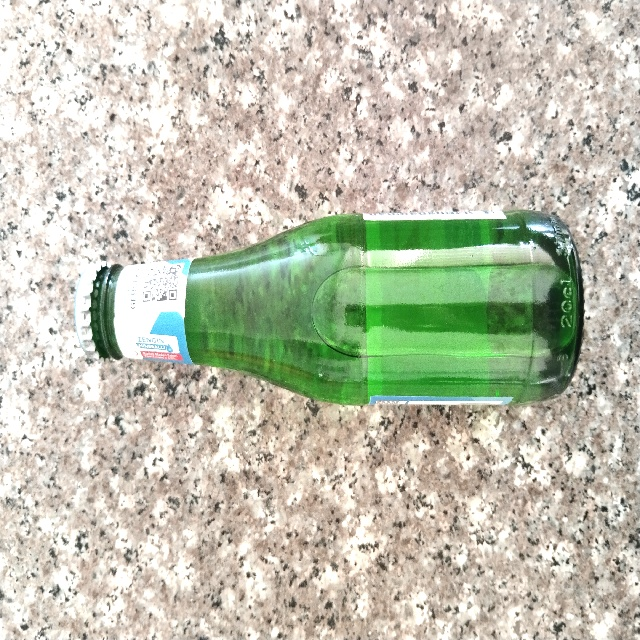kizilay_maden_suyu: (84, 211, 581, 404)
